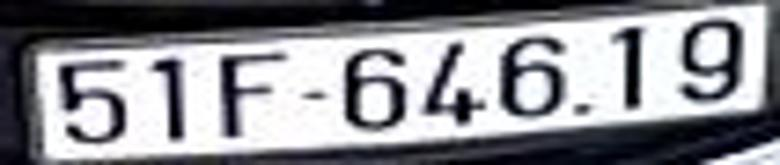-: (300, 92, 325, 100)
.: (572, 102, 591, 117)
1: (612, 24, 643, 112), (153, 59, 187, 139)
4: (421, 43, 486, 126)
5: (59, 62, 128, 143)
6: (339, 50, 406, 134), (498, 37, 562, 117)
9: (679, 19, 744, 102)
F: (218, 51, 284, 139)
